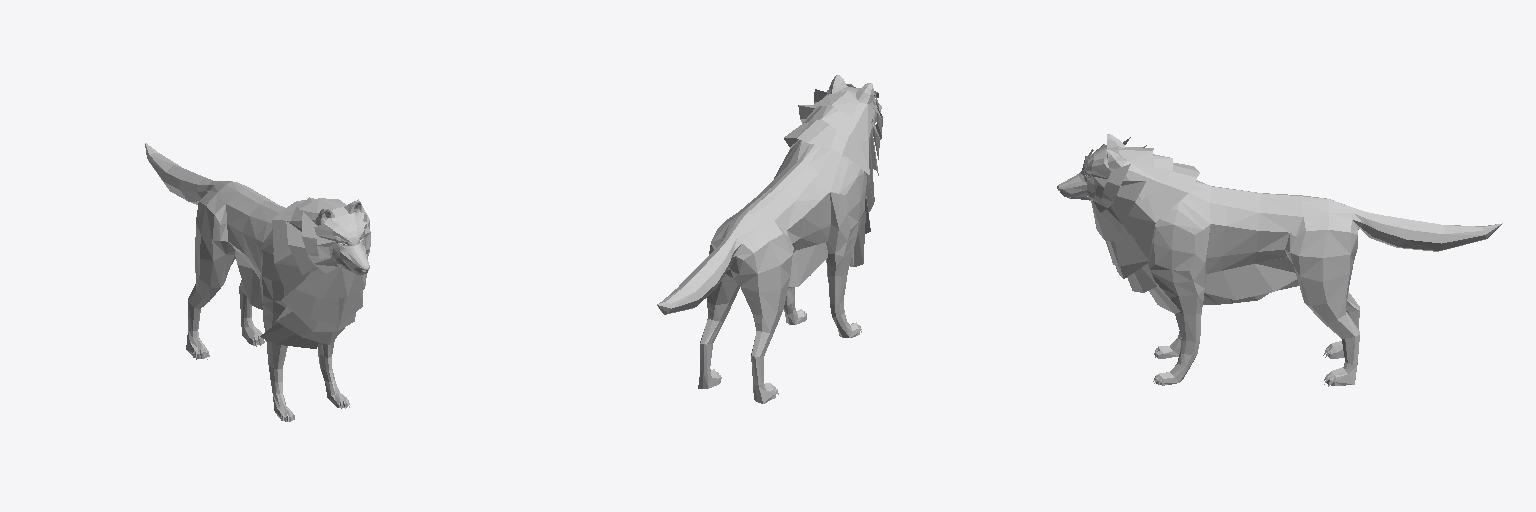
The model's file is wolf.obj.
3 renders of one model, left to right at view 1: azimuth 30°, elevation 25°; view 2: azimuth 150°, elevation 25°; view 3: azimuth 270°, elevation 25°, orthographic.
Visible parts, largest first — view 1: Wolf_obj_body_Cube.001, Wolf_obj_fur_Cube.002; view 2: Wolf_obj_body_Cube.001, Wolf_obj_fur_Cube.002; view 3: Wolf_obj_body_Cube.001, Wolf_obj_fur_Cube.002.
Part boxes in pixels (x1,y1,x2,y2): Wolf_obj_body_Cube.001: (145,143,369,421); Wolf_obj_fur_Cube.002: (235,197,370,348); Wolf_obj_body_Cube.001: (657,75,881,403); Wolf_obj_fur_Cube.002: (784,84,882,288); Wolf_obj_body_Cube.001: (1057,134,1502,386); Wolf_obj_fur_Cube.002: (1083,137,1298,313).
Bounding box in the file's own units: 0.244 × 0.5776 × 1.02.